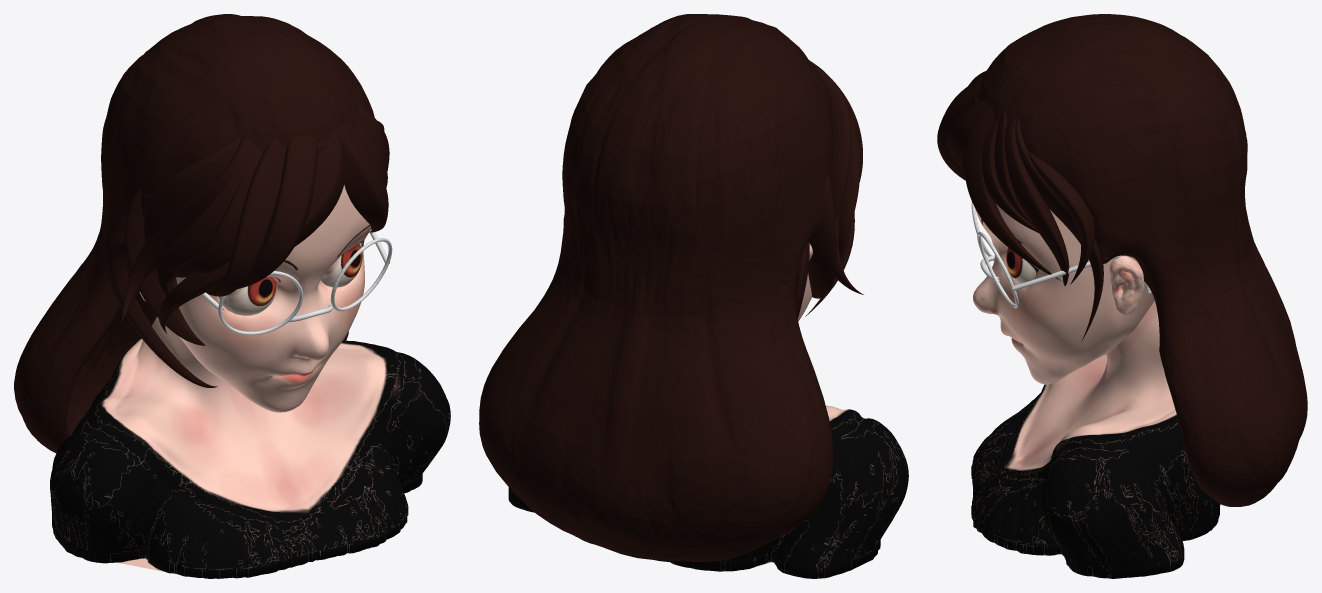
File: GLASSES.fbx
3 renders of one model, left to right at view 1: azimuth 30°, elevation 25°; view 2: azimuth 150°, elevation 25°; view 3: azimuth 270°, elevation 25°, orthographic. The views are drawn at different scales.
Parts seen in each view (by area): view 1: Sphere.002, Cylinder, Cube, Sphere, NurbsPath.018; view 2: Sphere.002, Cylinder; view 3: Sphere.002, Cylinder, Cube, Sphere.001, NurbsPath.018, Sphere.
Boxes of the visible parts, x1,y1,x2,y2 form: Sphere.002: (14,14,389,453); Cylinder: (50,317,450,578); Cube: (176,185,371,412); Sphere: (219,243,362,315); NurbsPath.018: (184,229,392,335); Sphere.002: (479,14,863,561); Cylinder: (508,405,908,578); Sphere.002: (937,14,1307,506); Cylinder: (971,300,1220,578); Cube: (973,204,1154,384); Sphere.001: (1109,256,1144,314); NurbsPath.018: (971,201,1151,308); Sphere: (1006,248,1036,284).
Size of the model in its own units: 274 by 331 by 236.
